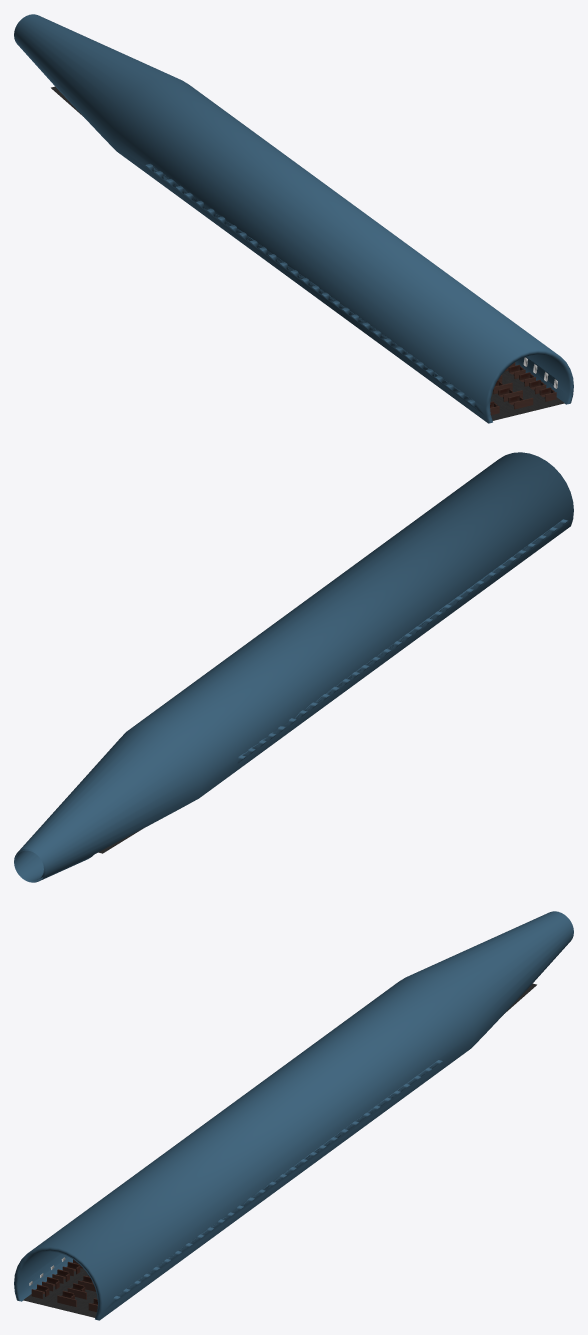
Rendered from stage2.fbx.
3 views of the same model, one above another, from view 1: azimuth 30°, elevation 25°; view 2: azimuth 150°, elevation 25°; view 3: azimuth 330°, elevation 25° (orthographic).
Visible parts, largest first — view 1: Circle, 平面, 立方体.002, 立方体.001; view 2: Circle; view 3: Circle, 平面, 立方体.003, 立方体.001.
Part boxes in pixels (<box>): Circle: <box>14,14,573,423</box>; 平面: <box>51,86,564,420</box>; 立方体.002: <box>504,362,556,401</box>; 立方体.001: <box>493,375,533,409</box>; Circle: <box>14,452,573,882</box>; Circle: <box>14,911,573,1320</box>; 平面: <box>23,983,536,1317</box>; 立方体.003: <box>31,1259,83,1298</box>; 立方体.001: <box>57,1275,95,1306</box>.
Bounding box in the file's own units: 3469 × 2944 × 30663.
